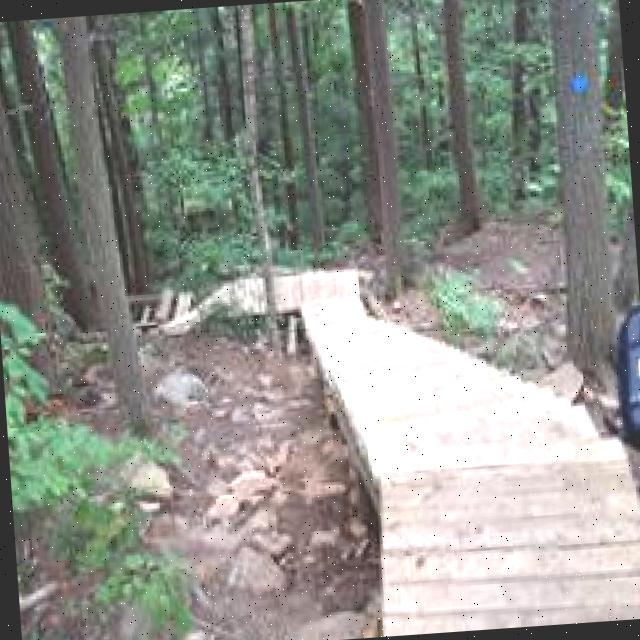stairs: (82, 176, 640, 640)
